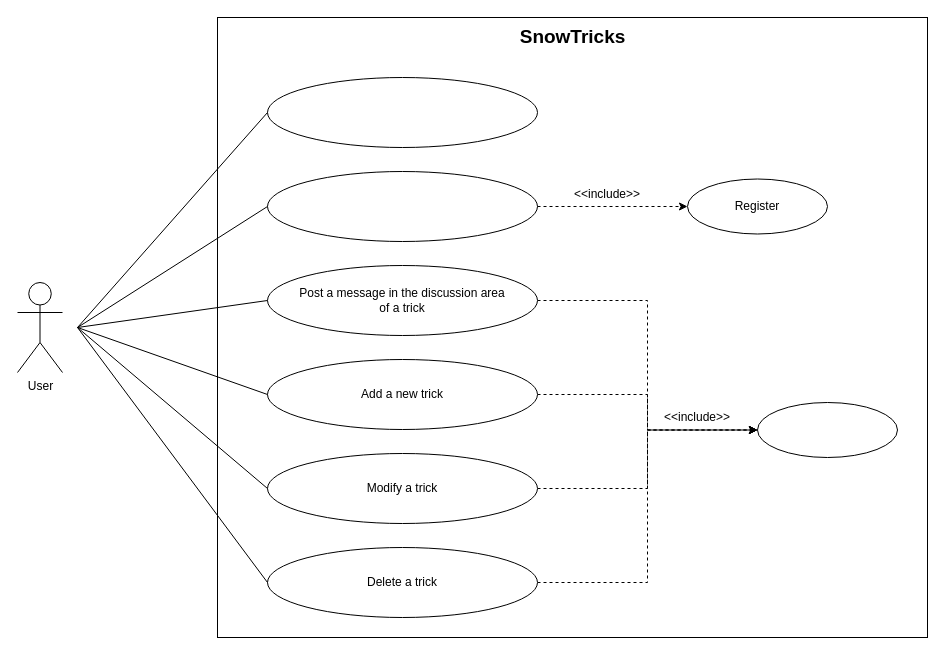
The diagram is 945 pixels wide and 655 high, and some of its shapes have lost their labels. The shapes that lost their labels are listed below. From the top down, each one's centre as x and y in pixels, then its label:
At pixel 402 112: "View homepage, details of tricks and discussion area".
At pixel 402 206: "Reset password".
At pixel 827 430: "Login".
